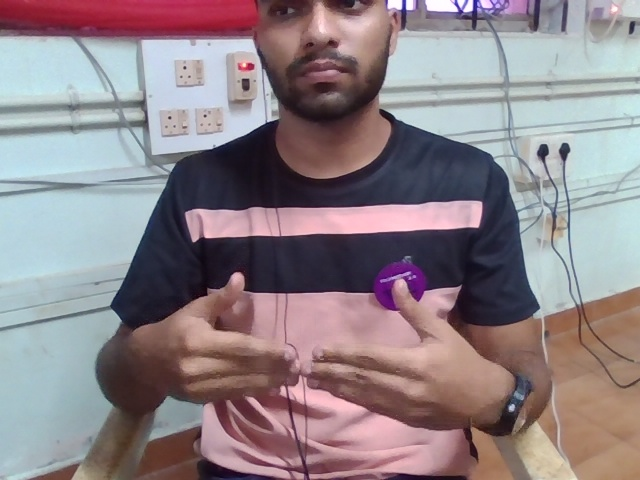more: (142, 258, 487, 462)
